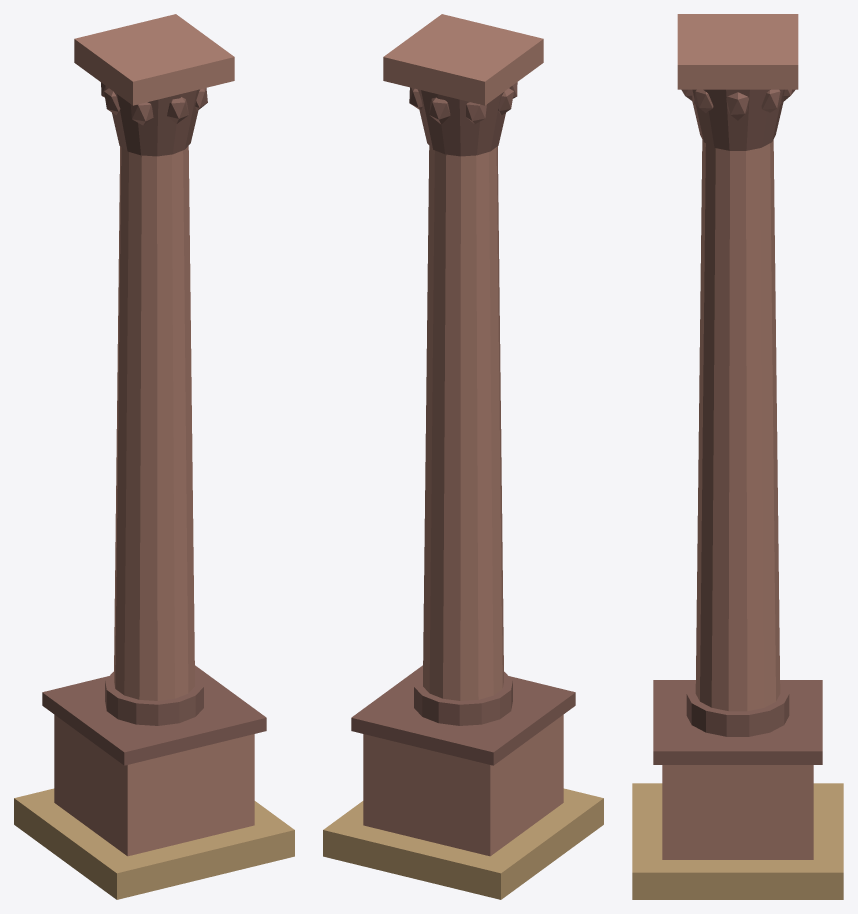
The model's file is pelare_pompejus.glb.
3 renders of one model, left to right at view 1: azimuth 30°, elevation 25°; view 2: azimuth 150°, elevation 25°; view 3: azimuth 270°, elevation 25°, orthographic. The views are drawn at different scales.
Parts seen in each view (by area): view 1: pelare_pompejus; view 2: pelare_pompejus; view 3: pelare_pompejus.
Boxes of the visible parts, x1,y1,x2,y2 form: pelare_pompejus: (14, 14, 294, 899); pelare_pompejus: (323, 14, 603, 899); pelare_pompejus: (632, 14, 843, 899).
Bounding box in the file's own units: 7 × 29.8 × 7.
